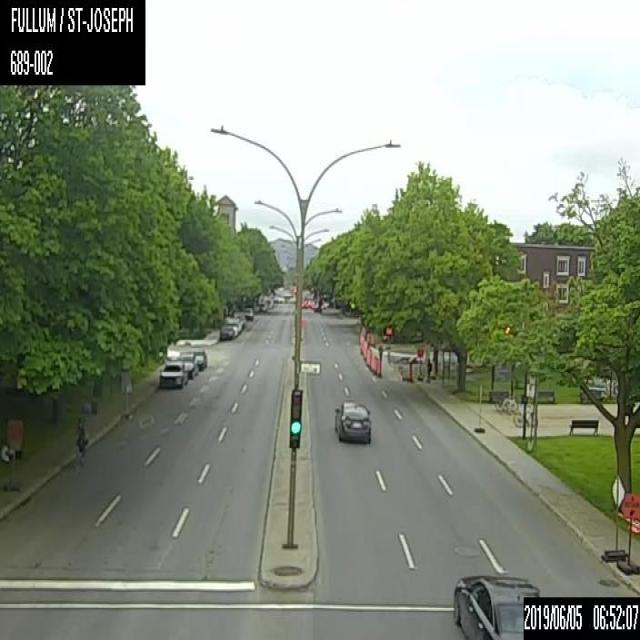construction: (600, 474, 628, 562), (616, 491, 639, 573), (417, 346, 422, 379), (385, 326, 392, 348), (406, 361, 414, 380)
pedestrian: (73, 416, 89, 468), (424, 357, 432, 383)
vehicle: (450, 573, 539, 639), (333, 400, 372, 441), (158, 362, 187, 389), (176, 351, 198, 378), (191, 348, 206, 369), (218, 327, 234, 340)
